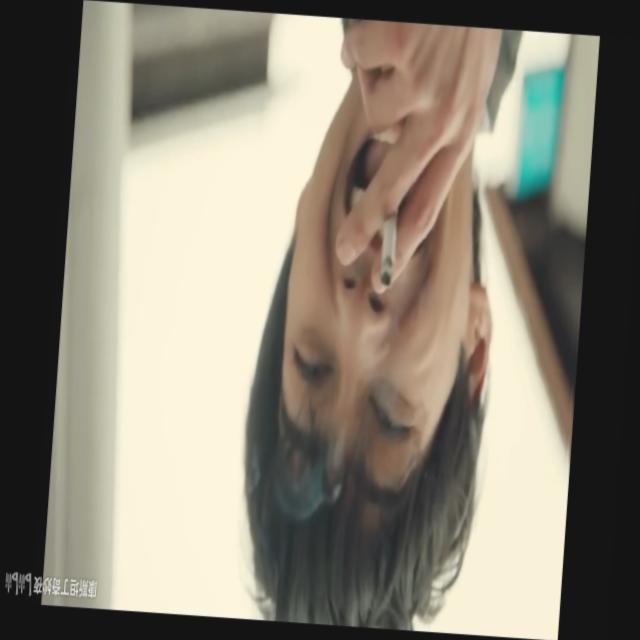cigarette: (366, 206, 408, 286)
